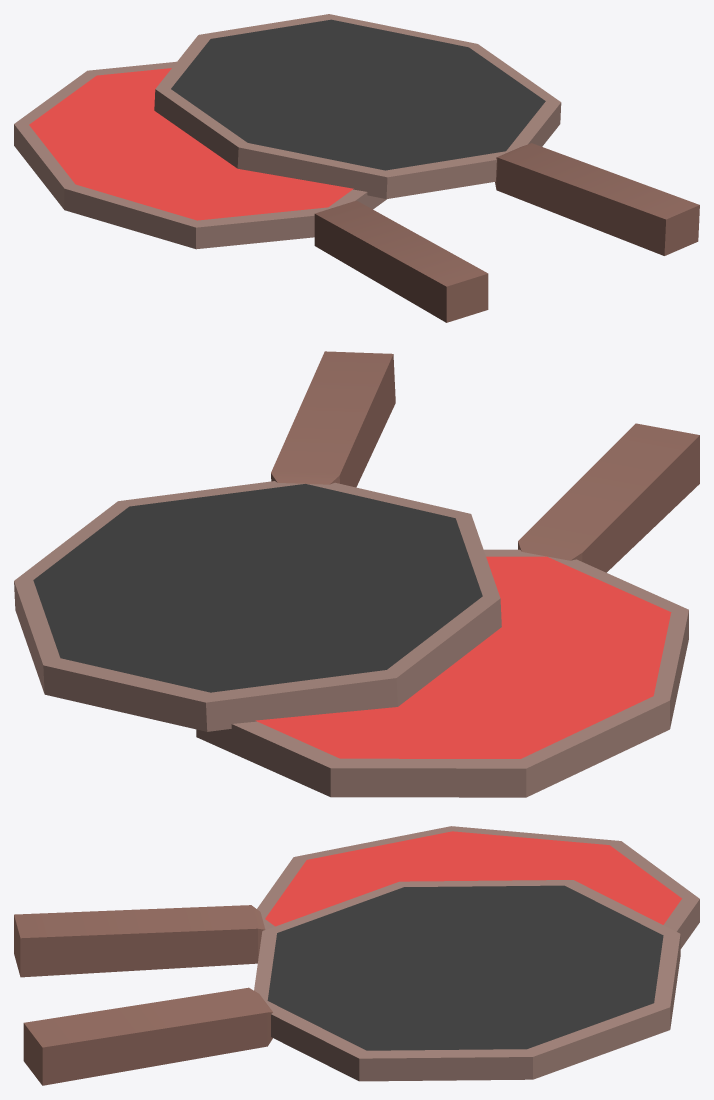
The model's file is toy_023.glb.
3 renders of one model, top to bottom at view 1: azimuth 30°, elevation 25°; view 2: azimuth 150°, elevation 25°; view 3: azimuth 270°, elevation 25°, orthographic. The views are drawn at different scales.
Visible parts, largest first — view 1: toy_023; view 2: toy_023; view 3: toy_023.
Boxes of the visible parts, x1,y1,x2,y2 form: toy_023: (14,14,699,322); toy_023: (14,351,699,797); toy_023: (14,826,699,1085).
Bounding box in the file's own units: 0.3118 × 0.0346 × 0.3772.
Materials: 1 (1 with a texture image).
